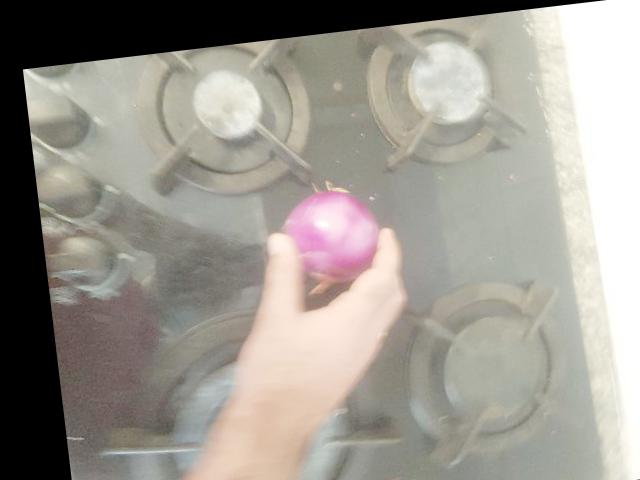onion: (423, 89, 518, 199)
